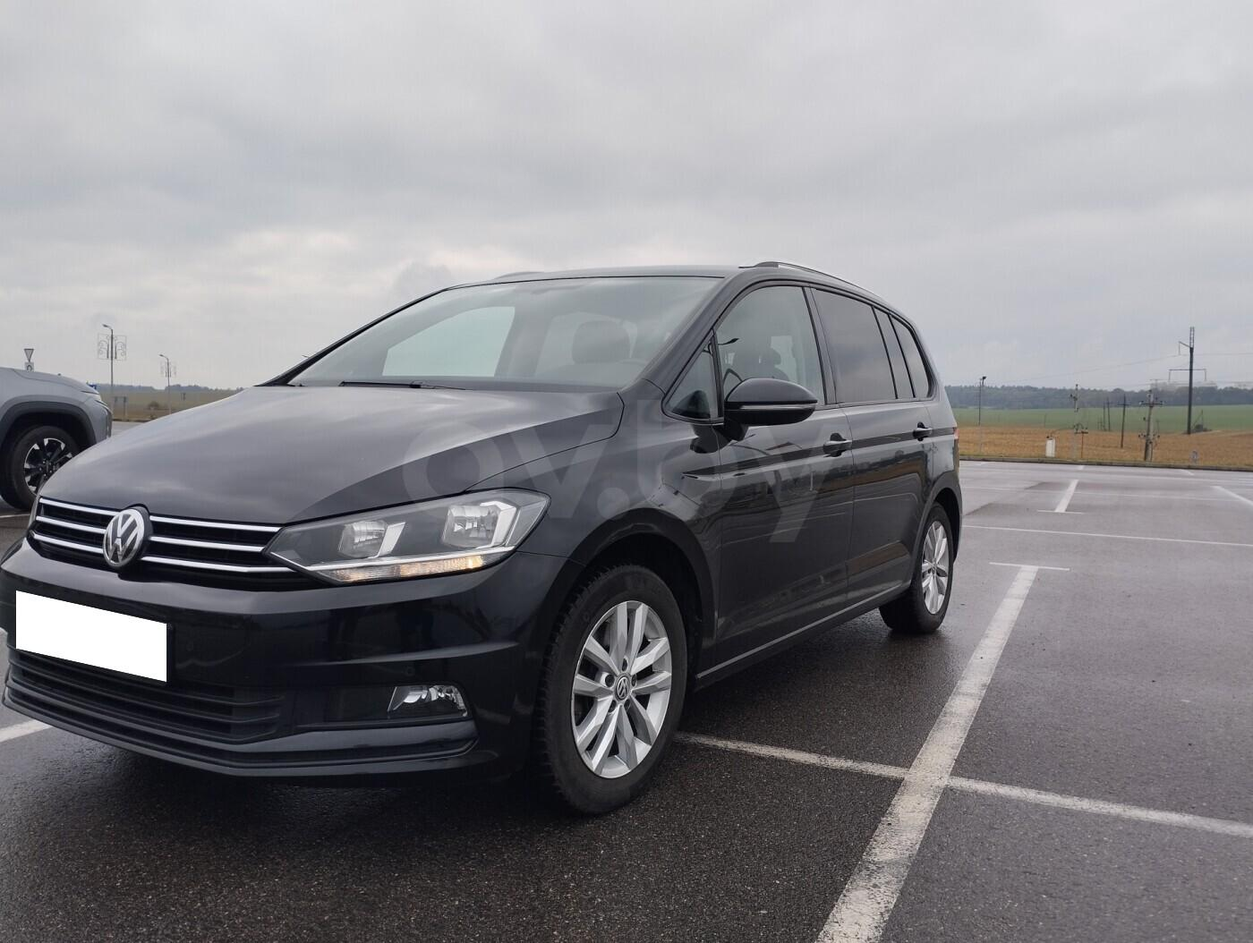Touran_2015: (0, 262, 964, 817)
